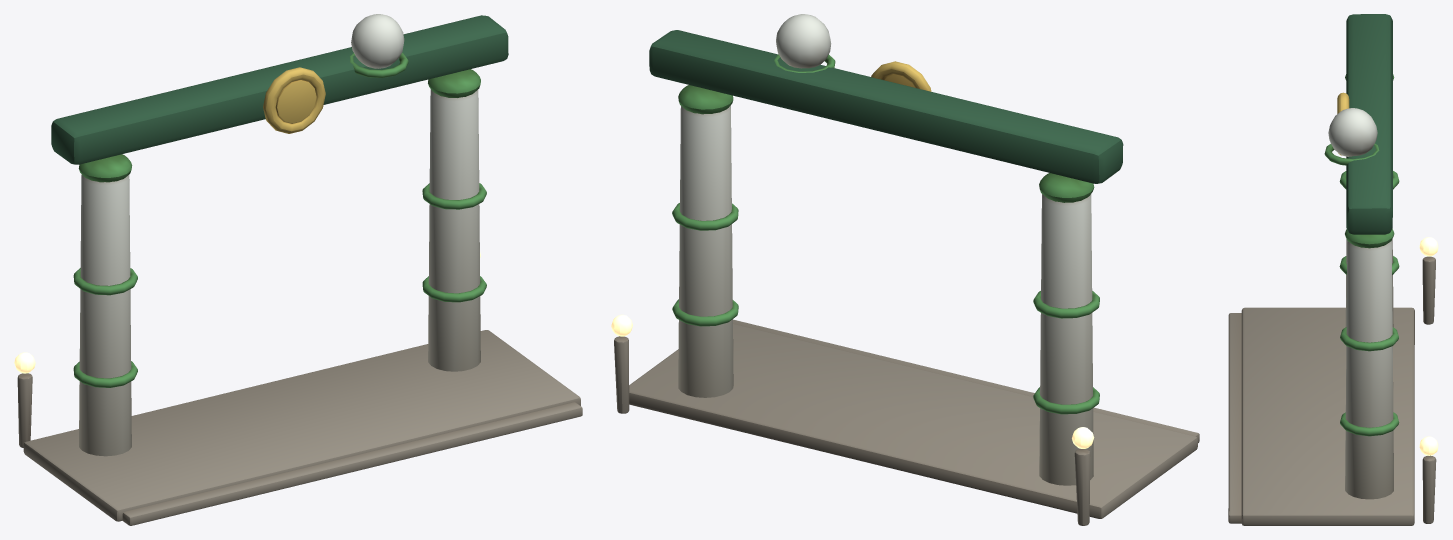
3 renders of one model, left to right at view 1: azimuth 30°, elevation 25°; view 2: azimuth 150°, elevation 25°; view 3: azimuth 270°, elevation 25°, orthographic. The views are drawn at different scales.
Visible parts, largest first — view 1: gate_30f1b96c; view 2: gate_30f1b96c; view 3: gate_30f1b96c.
Boxes of the visible parts, bbox=[...] form: gate_30f1b96c: bbox=[14, 14, 582, 525]; gate_30f1b96c: bbox=[611, 14, 1199, 525]; gate_30f1b96c: bbox=[1228, 14, 1438, 525].
Size of the model in its own units: 5.98 by 4.73 by 2.55.
